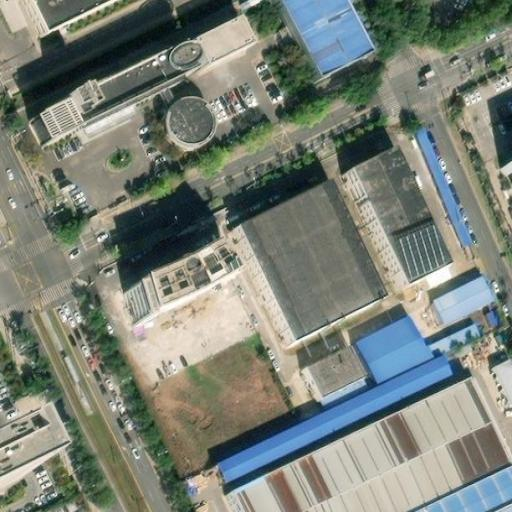building: (233, 377, 512, 512), (220, 355, 459, 489), (44, 18, 255, 134), (238, 179, 388, 340), (356, 145, 454, 281), (119, 248, 226, 327), (414, 128, 473, 249), (280, 0, 370, 71), (359, 314, 435, 385), (306, 343, 375, 410), (415, 466, 512, 512), (432, 275, 495, 321), (428, 323, 483, 360), (170, 101, 213, 144), (491, 359, 512, 403), (480, 303, 503, 329)
